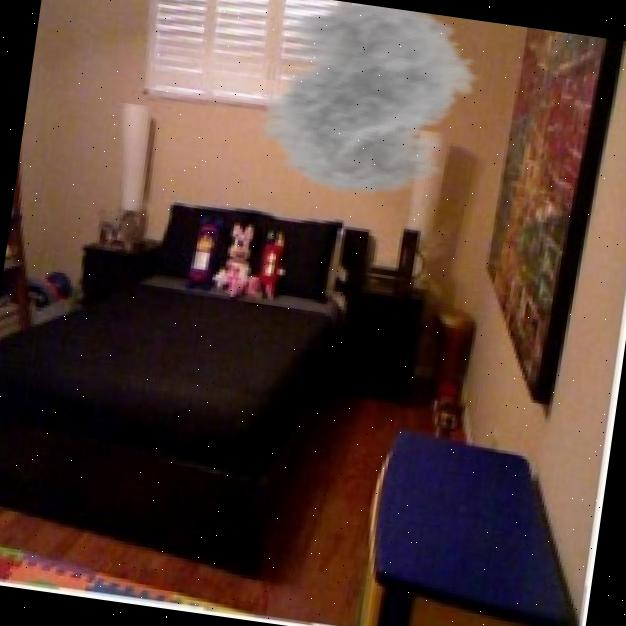smoke: (223, 0, 504, 213)
